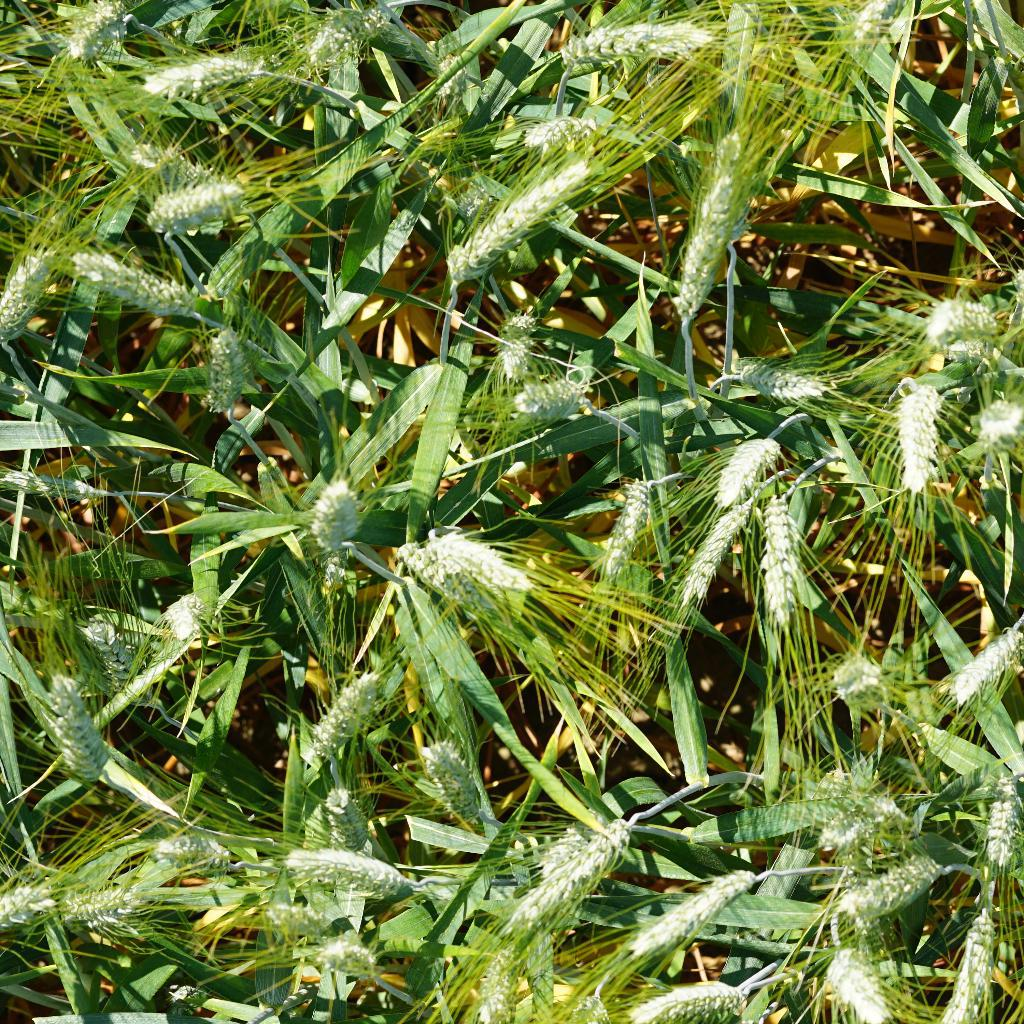0-0: (432, 137, 604, 295), (661, 119, 766, 329), (501, 802, 641, 938), (619, 849, 757, 961), (264, 662, 393, 763), (56, 240, 216, 318), (135, 45, 296, 116), (69, 611, 169, 719), (410, 515, 533, 597), (926, 915, 1017, 1024), (384, 535, 494, 621), (41, 658, 116, 780), (549, 18, 710, 74), (931, 616, 1024, 710), (684, 492, 751, 615), (595, 458, 656, 593), (886, 367, 948, 497), (277, 844, 413, 901), (814, 938, 901, 1024), (0, 228, 56, 358), (966, 759, 1024, 884), (833, 858, 944, 922), (754, 505, 808, 636), (813, 783, 905, 859), (419, 743, 501, 828), (727, 350, 834, 415), (294, 0, 394, 68), (503, 376, 612, 438), (621, 970, 744, 1024), (301, 477, 373, 565), (52, 0, 130, 81), (833, 0, 942, 56), (141, 179, 256, 232), (191, 324, 253, 421), (709, 423, 778, 509), (58, 873, 153, 935), (313, 931, 402, 993), (0, 466, 132, 507), (123, 137, 224, 189), (314, 785, 389, 855), (918, 283, 1004, 343), (484, 305, 544, 389), (467, 937, 523, 1024), (148, 582, 216, 650), (825, 646, 890, 712), (149, 828, 242, 874), (516, 111, 600, 159), (968, 386, 1024, 457), (0, 871, 62, 935), (450, 175, 509, 234), (531, 826, 591, 882), (306, 530, 357, 592), (257, 899, 321, 946), (160, 980, 221, 1024), (929, 325, 993, 366), (430, 50, 475, 104)
